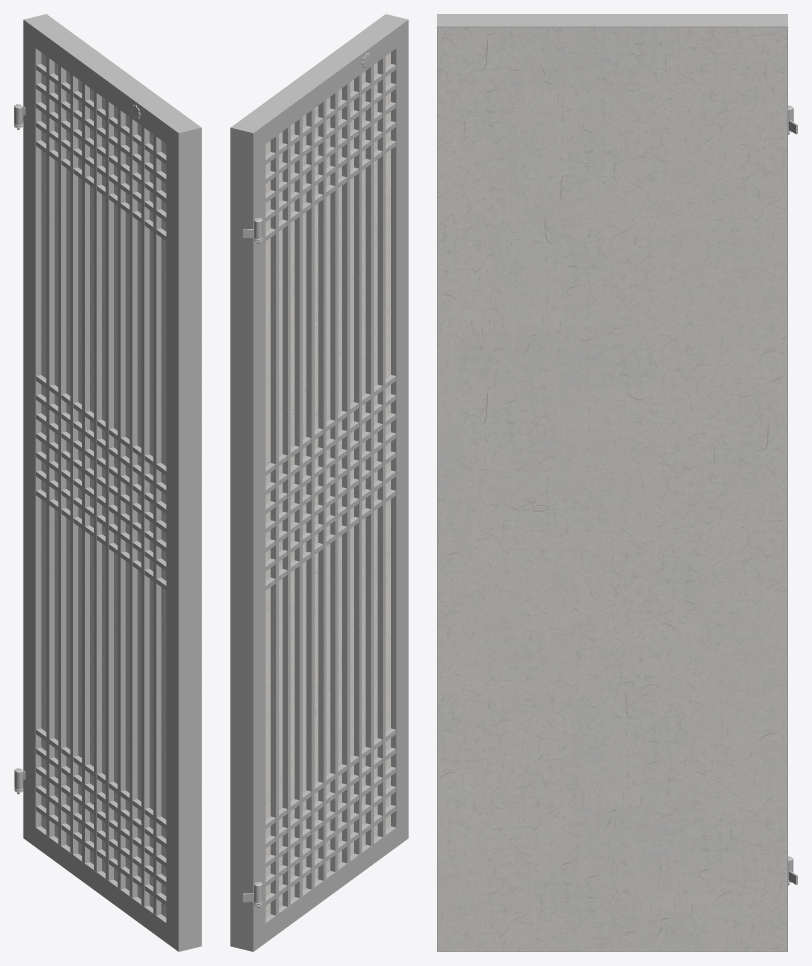
File: SM_GlassDoor01I-a.fbx
3 renders of one model, left to right at view 1: azimuth 30°, elevation 25°; view 2: azimuth 150°, elevation 25°; view 3: azimuth 270°, elevation 25°, orthographic. The views are drawn at different scales.
Visible parts, largest first — view 1: SM_GlassDoor01I-a; view 2: SM_GlassDoor01I-a; view 3: SM_GlassDoor01I-a.
Part boxes in pixels (x1,y1,x2,y2): SM_GlassDoor01I-a: (14, 14, 201, 951); SM_GlassDoor01I-a: (230, 14, 408, 951); SM_GlassDoor01I-a: (437, 14, 797, 951).
Bounding box in the file's own units: 6.66 × 57.05 × 161.
